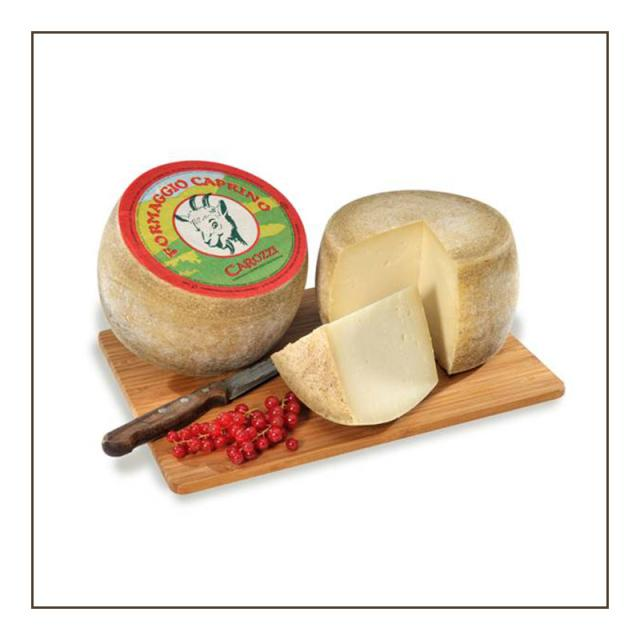Cheese: (81, 150, 333, 360), (289, 177, 499, 367)
